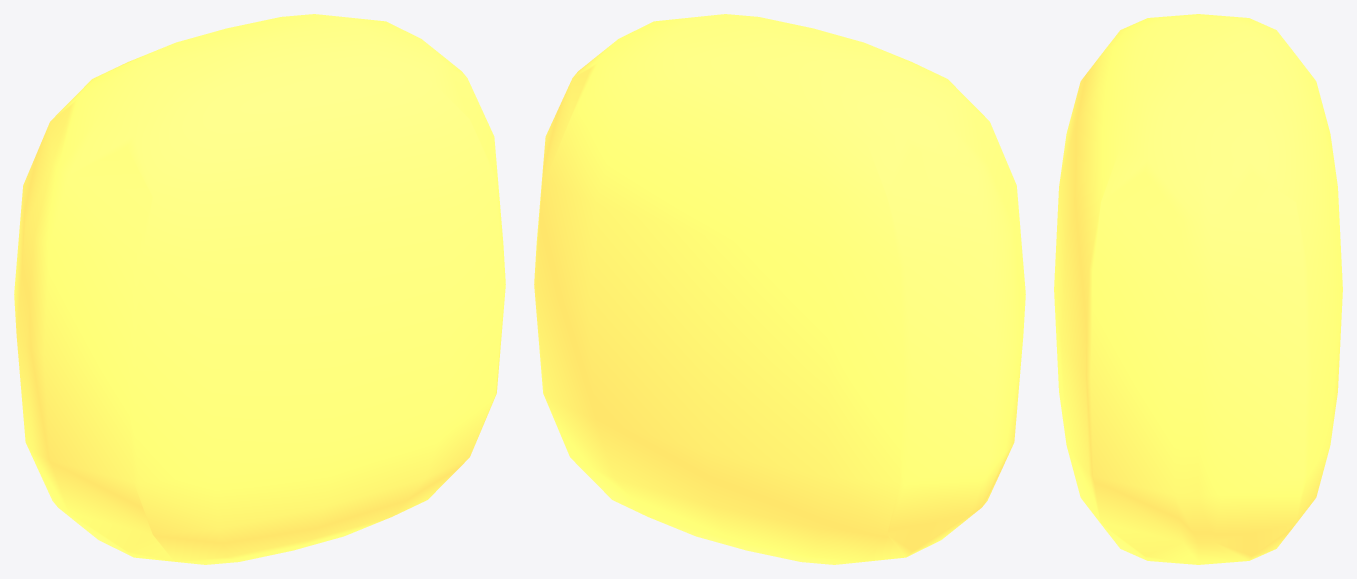
Rendered from Centinela_Casco_Neon.fbx.
3 views of the same model, side by side, from view 1: azimuth 30°, elevation 25°; view 2: azimuth 150°, elevation 25°; view 3: azimuth 270°, elevation 25° (orthographic). The views are drawn at different scales.
Visible parts, largest first — view 1: Centinela_Casco_Neon; view 2: Centinela_Casco_Neon; view 3: Centinela_Casco_Neon.
Part boxes in pixels (x1=…): Centinela_Casco_Neon: x1=14, y1=14, x2=505, y2=564; Centinela_Casco_Neon: x1=534, y1=14, x2=1025, y2=564; Centinela_Casco_Neon: x1=1054, y1=14, x2=1342, y2=564.
Size of the model in its own units: 0.1143 by 0.1143 by 0.0643.
